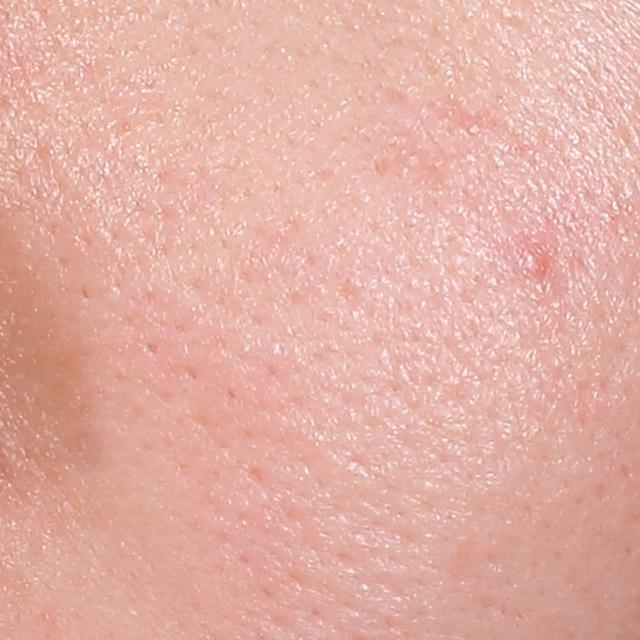papule: (517, 246, 549, 283)
